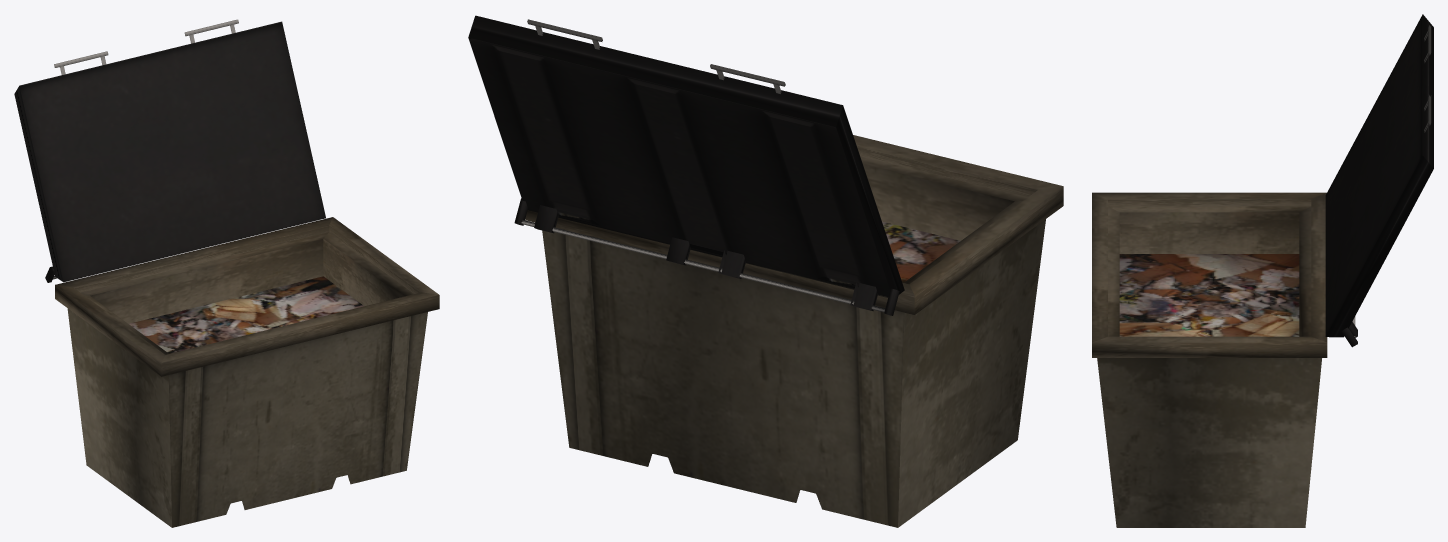
File: muellcontainer_offen.fbx
3 renders of one model, left to right at view 1: azimuth 30°, elevation 25°; view 2: azimuth 150°, elevation 25°; view 3: azimuth 270°, elevation 25°, orthographic. The views are drawn at different scales.
Parts seen in each view (by area): view 1: Mesh; view 2: Mesh; view 3: Mesh.
Boxes of the visible parts, bbox=[...] form: Mesh: bbox=[14, 19, 439, 527]; Mesh: bbox=[468, 15, 1063, 527]; Mesh: bbox=[1092, 14, 1433, 527].
Bounding box in the file's own units: 248 × 305 × 239.
